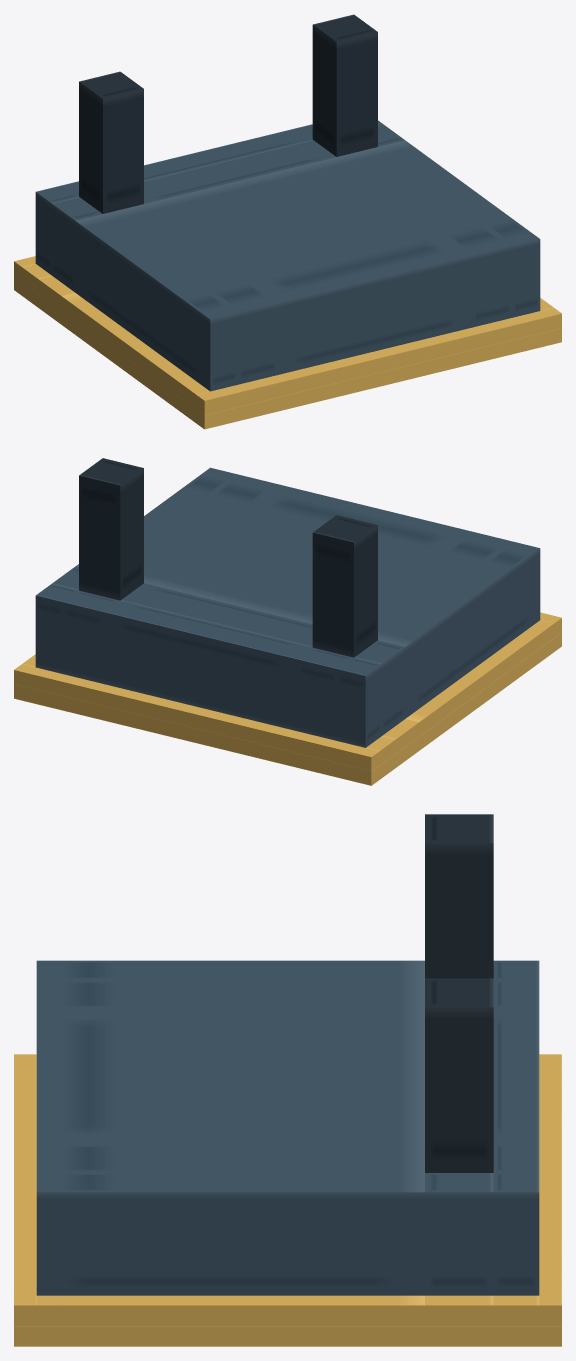
File: sc_ram.obj
The picture shows the model from 3 angles, top to bottom: view 1: azimuth 30°, elevation 25°; view 2: azimuth 150°, elevation 25°; view 3: azimuth 270°, elevation 25°; orthographic projection. The views are drawn at different scales.
Bounding box in the file's own units: 16.25 × 9.38 × 15.
Materials: 1 (1 with a texture image).
